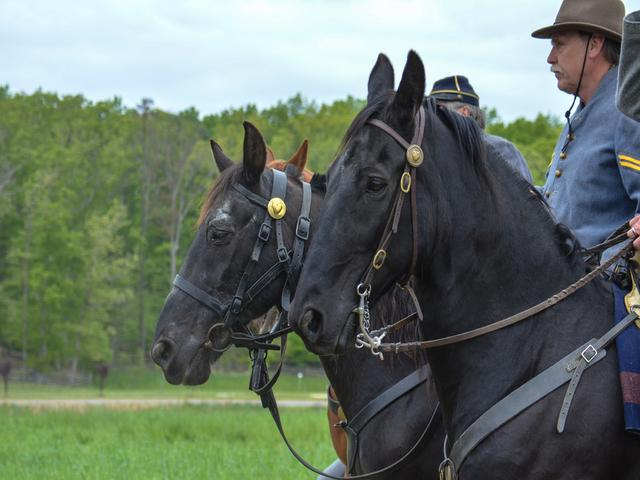horse: (125, 44, 606, 390)
